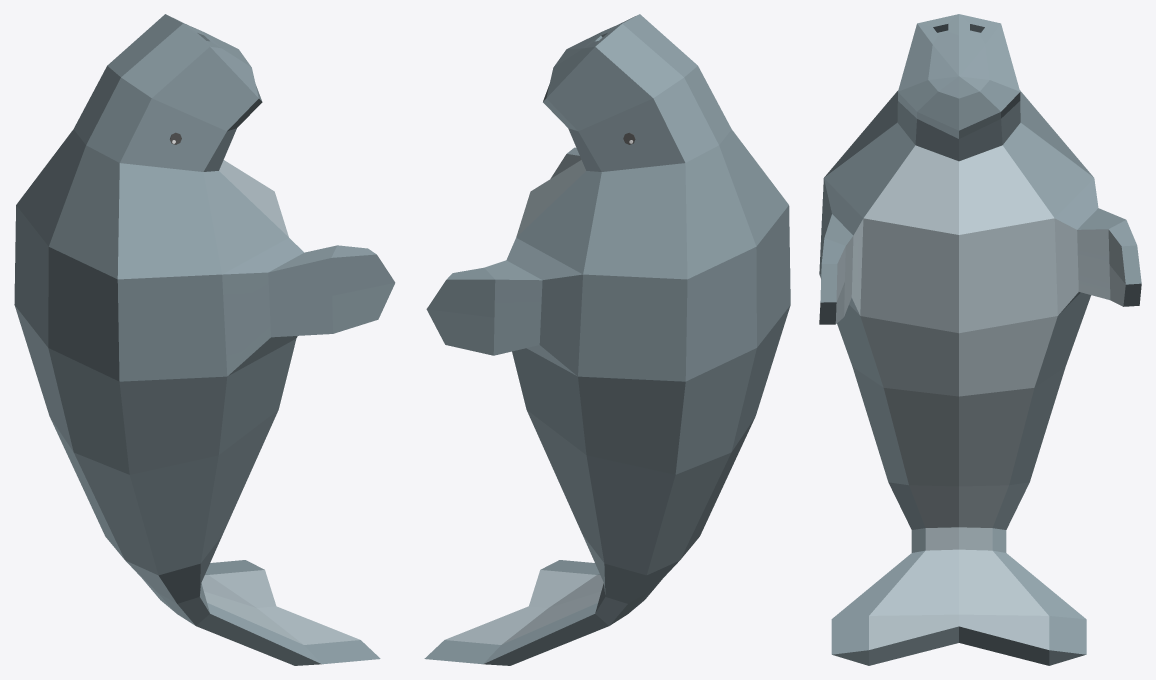
File: manattee_old.fbx
3 views of the same model, side by side, from view 1: azimuth 30°, elevation 25°; view 2: azimuth 150°, elevation 25°; view 3: azimuth 270°, elevation 25° (orthographic). The views are drawn at different scales.
Parts seen in each view (by area): view 1: Manatee_Circle.002; view 2: Manatee_Circle.002; view 3: Manatee_Circle.002.
Part boxes in pixels (<box>): Manatee_Circle.002: <box>14,14,395,665</box>; Manatee_Circle.002: <box>424,14,790,665</box>; Manatee_Circle.002: <box>819,14,1141,665</box>.
Size of the model in its own units: 916 by 2023 by 994.
